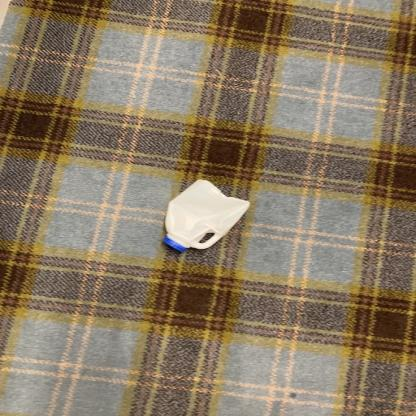trash: (159, 178, 251, 255)
